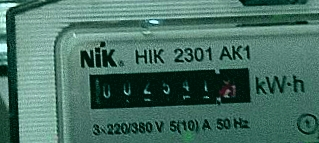0: (98, 78, 112, 99), (119, 75, 132, 96)
1: (198, 73, 210, 94)
2: (139, 75, 152, 96)
4: (179, 73, 192, 94)
5: (158, 74, 171, 96)
6: (220, 84, 232, 100)
screen: (78, 57, 261, 118)
